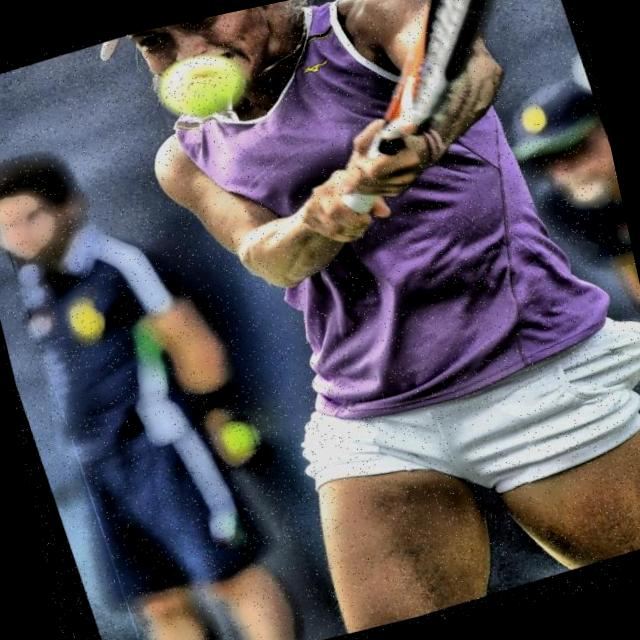tennis-ball: (147, 42, 260, 136), (215, 414, 258, 460)
